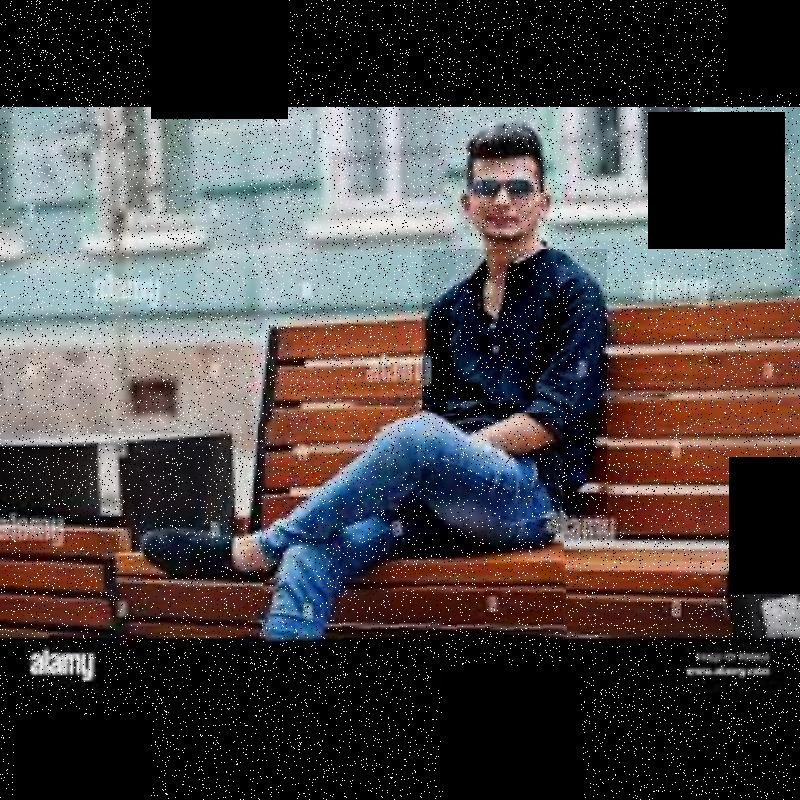Jeans: (266, 419, 563, 643)
Shirt: (422, 250, 607, 515)
